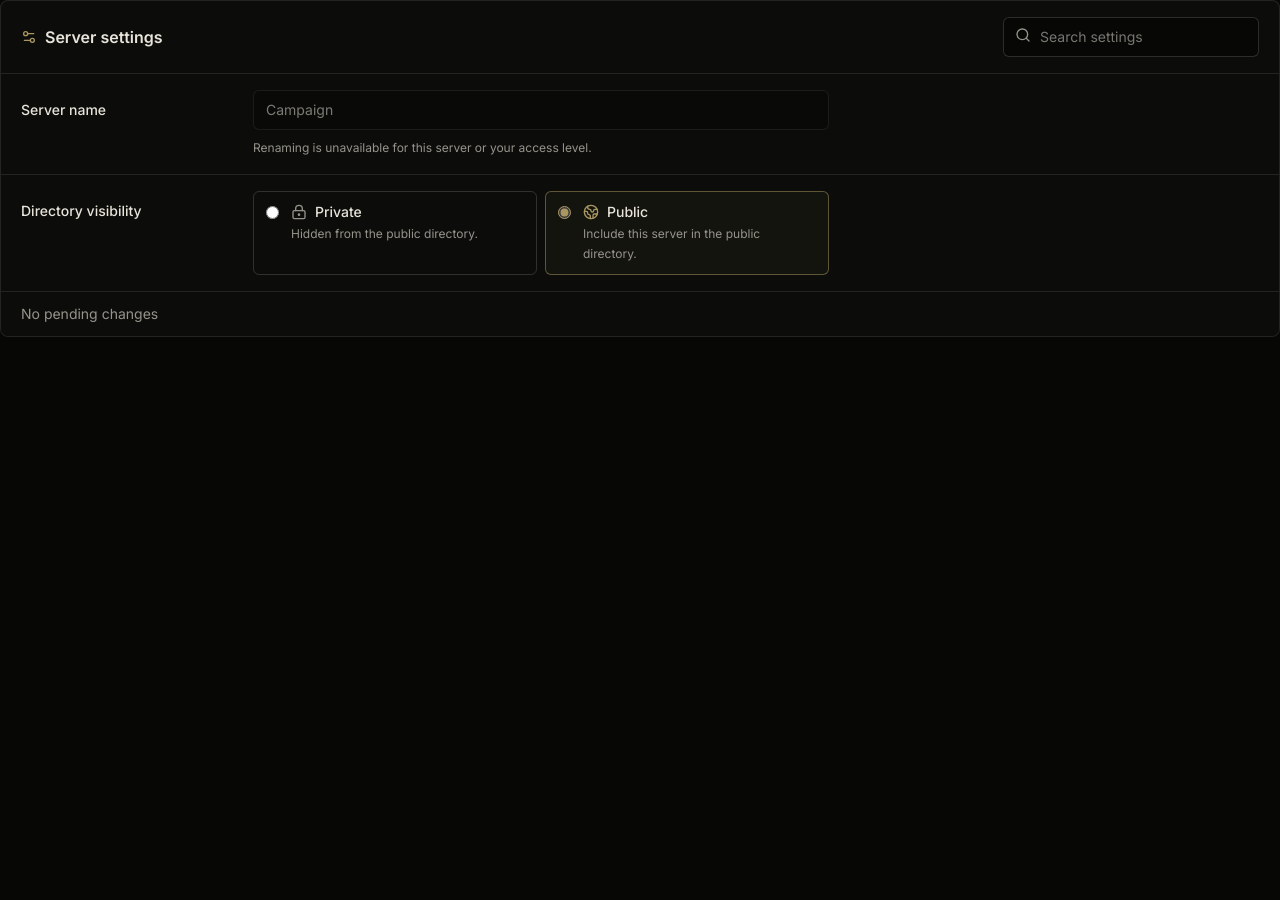
saves a managed owner's visibility while keeping the recorded name read-only
The image size is (1280, 900).
Expected: the field with id "settings-server-name" is disabled, [253, 90, 829, 130]
Click the radio button labelled "Private Hidden from the public directory.".
click(272, 212)  # box [266, 206, 279, 219]
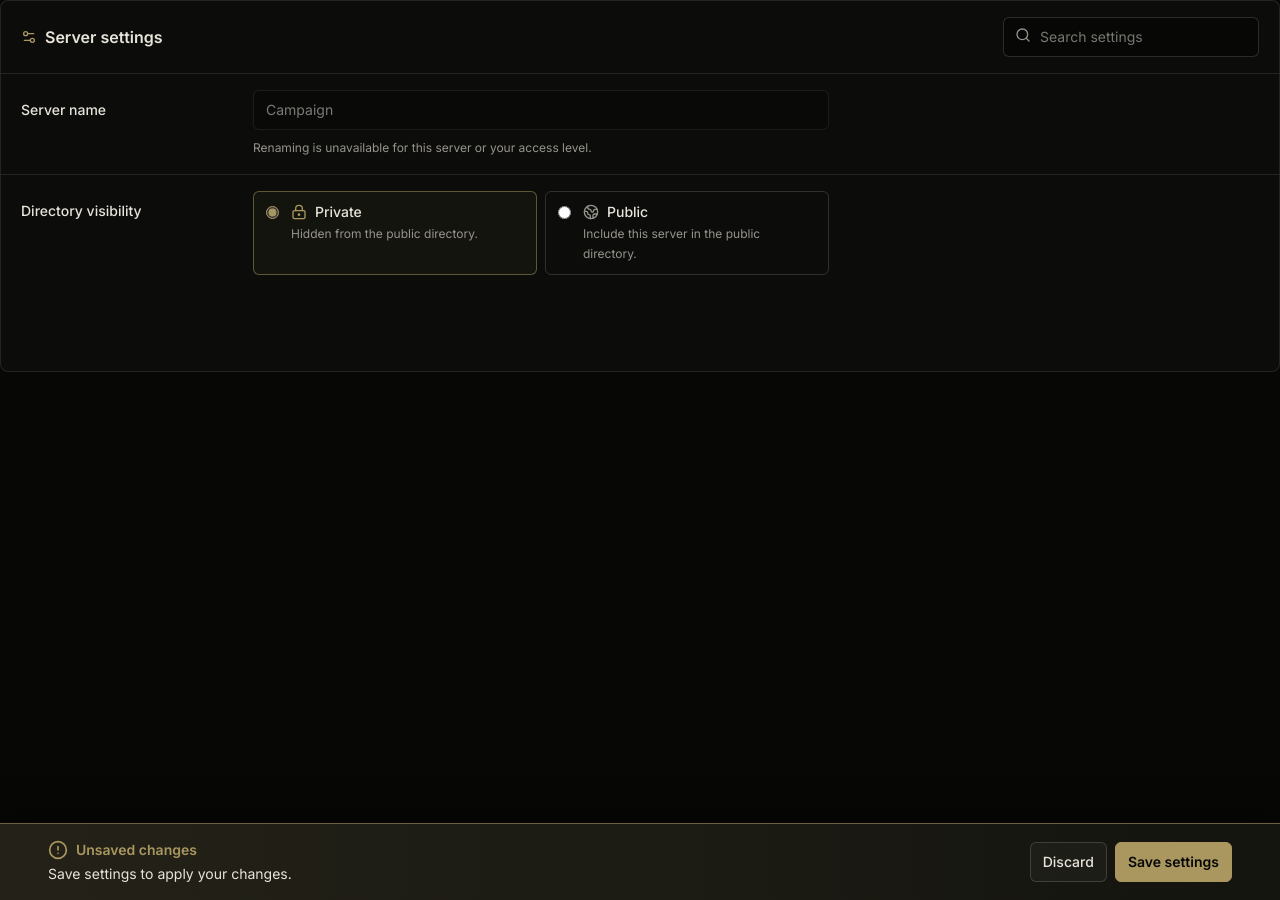
Submit the form, box [1, 74, 1279, 371]
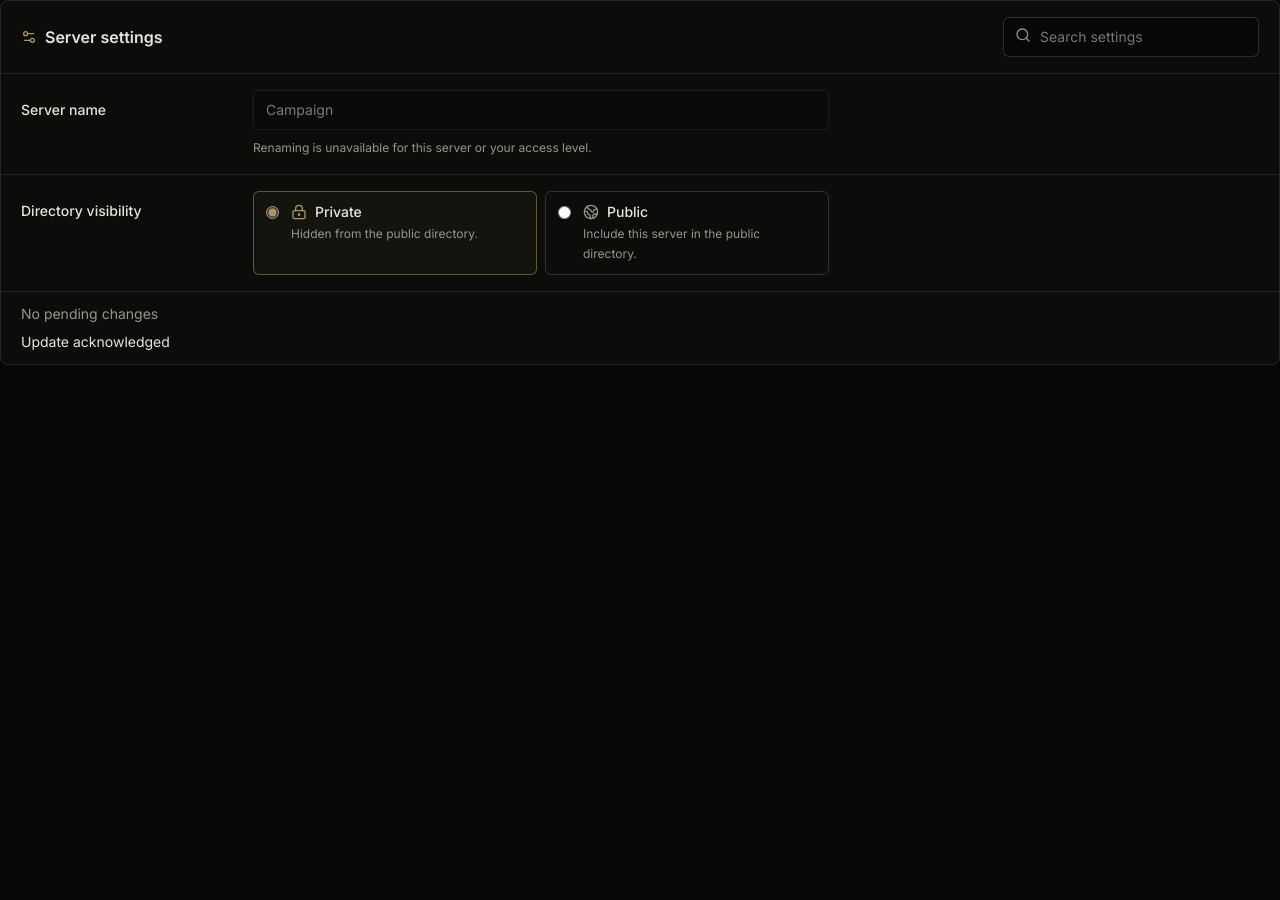
Expected: the text "No pending changes" is shown, [21, 305, 158, 322]
